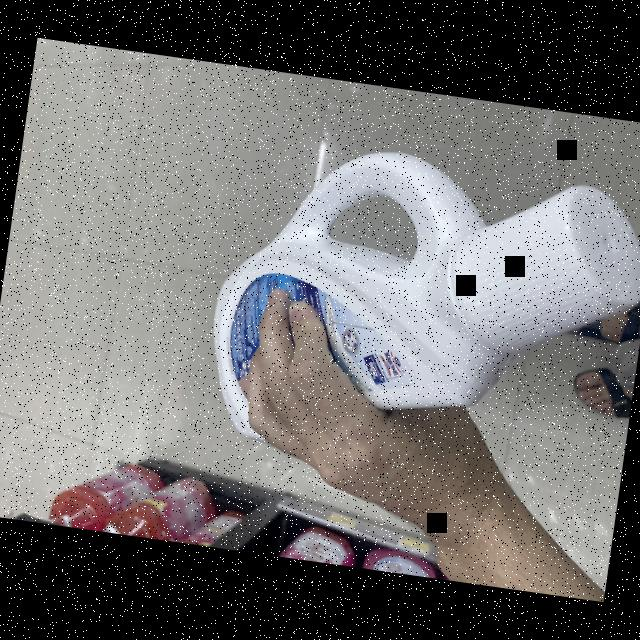chemical_plastic_gallon: (193, 115, 640, 503)
